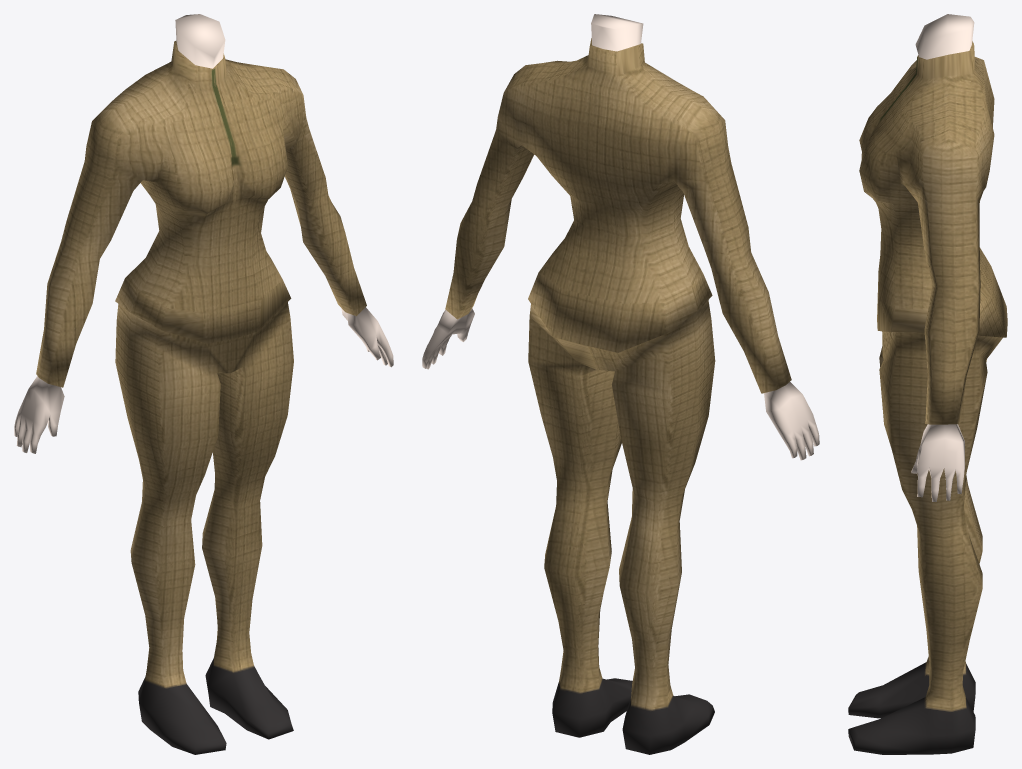
Rendered from W-Fliz.fbx.
The picture shows the model from 3 angles, left to right: view 1: azimuth 30°, elevation 25°; view 2: azimuth 150°, elevation 25°; view 3: azimuth 270°, elevation 25°; orthographic projection. The views are drawn at different scales.
Visible parts, largest first — view 1: W-Fliz; view 2: W-Fliz; view 3: W-Fliz.
Part boxes in pixels (x1,y1,x2,y2): W-Fliz: (14,14,393,754); W-Fliz: (422,14,819,754); W-Fliz: (848,14,1007,754).
Size of the model in its own units: 100 by 180 by 36.95.
